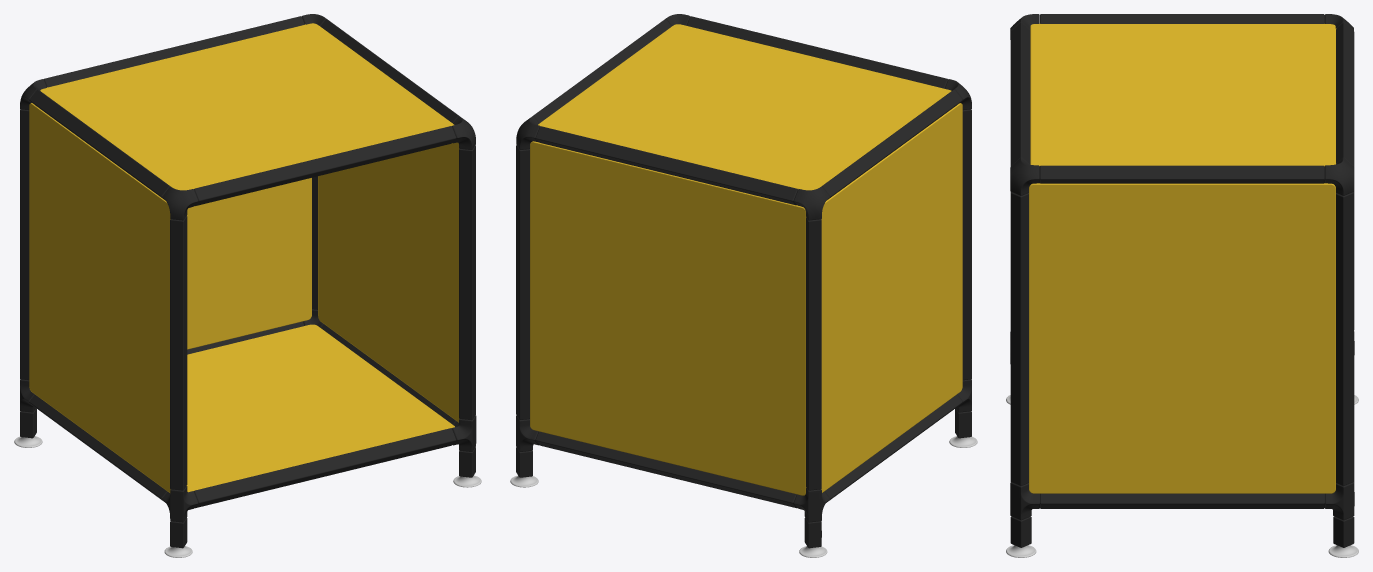
3 renders of one model, left to right at view 1: azimuth 30°, elevation 25°; view 2: azimuth 150°, elevation 25°; view 3: azimuth 270°, elevation 25°, orthographic. The views are drawn at different scales.
Parts seen in each view (by area): view 1: 420x374x420; view 2: 420x374x420; view 3: 420x374x420.
Boxes of the visible parts, box(x1,y1,x2,y2) form: 420x374x420: box(14, 14, 481, 557); 420x374x420: box(510, 14, 977, 557); 420x374x420: box(1006, 14, 1358, 557).
Bounding box in the file's own units: 0.5099 × 0.5593 × 0.4632.
